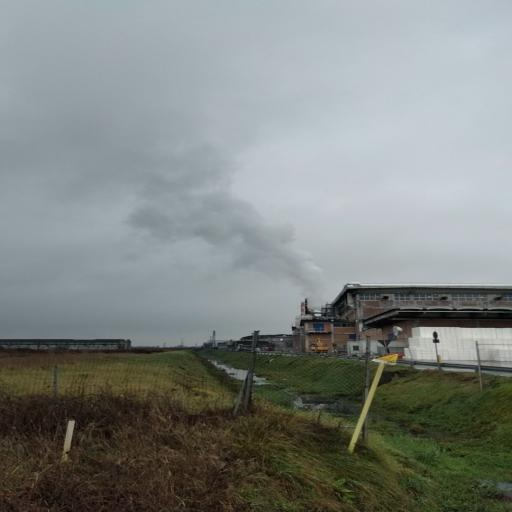leakage: (19, 92, 348, 328)
